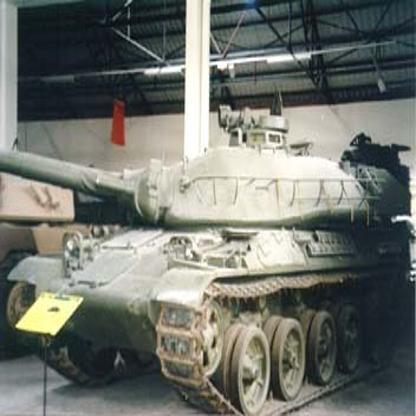Tank: (1, 105, 416, 416)
